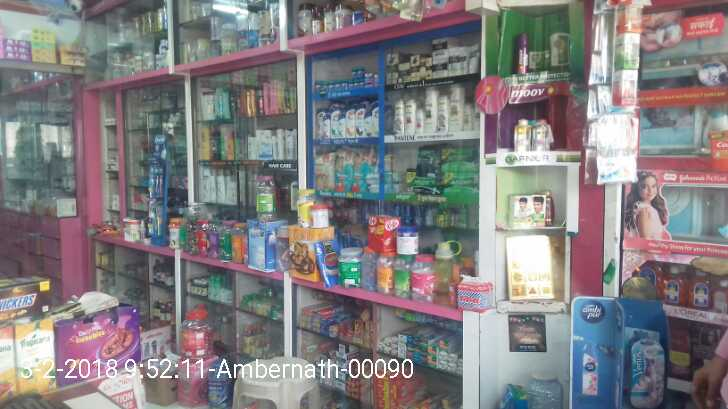beauty: (627, 341, 668, 408), (443, 43, 477, 77), (445, 86, 465, 132), (422, 89, 436, 136), (383, 50, 400, 84), (402, 96, 415, 136), (407, 52, 422, 84), (410, 105, 425, 136), (396, 55, 412, 84), (391, 95, 400, 136), (428, 60, 445, 81), (344, 101, 353, 138), (436, 100, 445, 136), (432, 35, 448, 55), (354, 104, 363, 135), (320, 115, 331, 139), (337, 109, 344, 137), (365, 107, 372, 135)
pharmacy: (309, 66, 382, 89), (353, 142, 381, 192), (313, 149, 335, 190), (441, 148, 478, 172), (406, 172, 438, 196), (442, 172, 475, 193), (334, 150, 350, 192)
